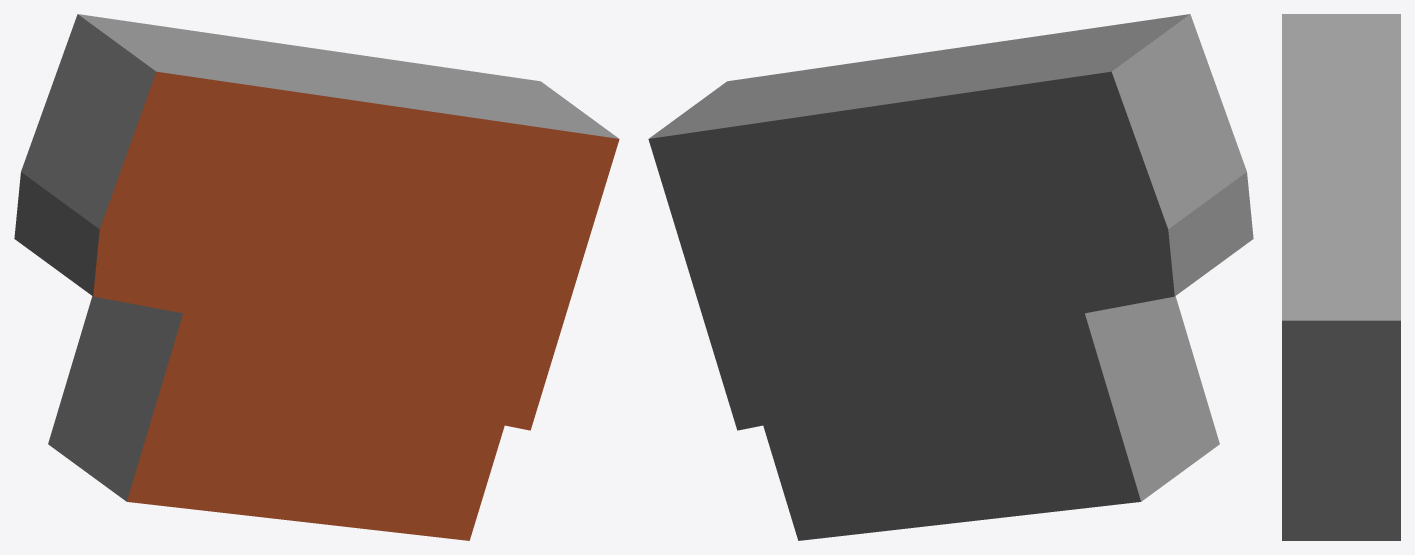
The model's file is construction_7023_assumed_A_Casa_h6m.obj.
3 renders of one model, left to right at view 1: azimuth 30°, elevation 25°; view 2: azimuth 150°, elevation 25°; view 3: azimuth 270°, elevation 25°, orthographic. The views are drawn at different scales.
Parts seen in each view (by area): view 1: construction_7023_assumed_A_Casa; view 2: construction_7023_assumed_A_Casa; view 3: construction_7023_assumed_A_Casa.
Boxes of the visible parts, bbox=[...] form: construction_7023_assumed_A_Casa: bbox=[14, 14, 619, 540]; construction_7023_assumed_A_Casa: bbox=[648, 14, 1253, 540]; construction_7023_assumed_A_Casa: bbox=[1282, 14, 1400, 540].
Size of the model in its own units: 23.15 by 22.93 by 6.
